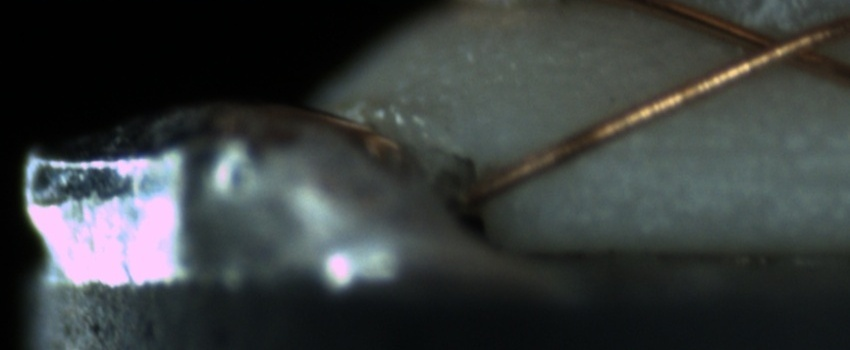CL: (711, 14, 842, 77)
DL: (567, 117, 841, 183)
